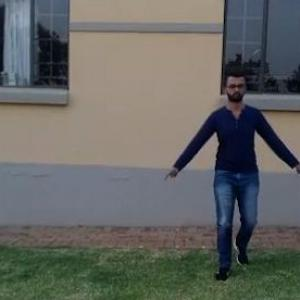land: (163, 72, 299, 290)
